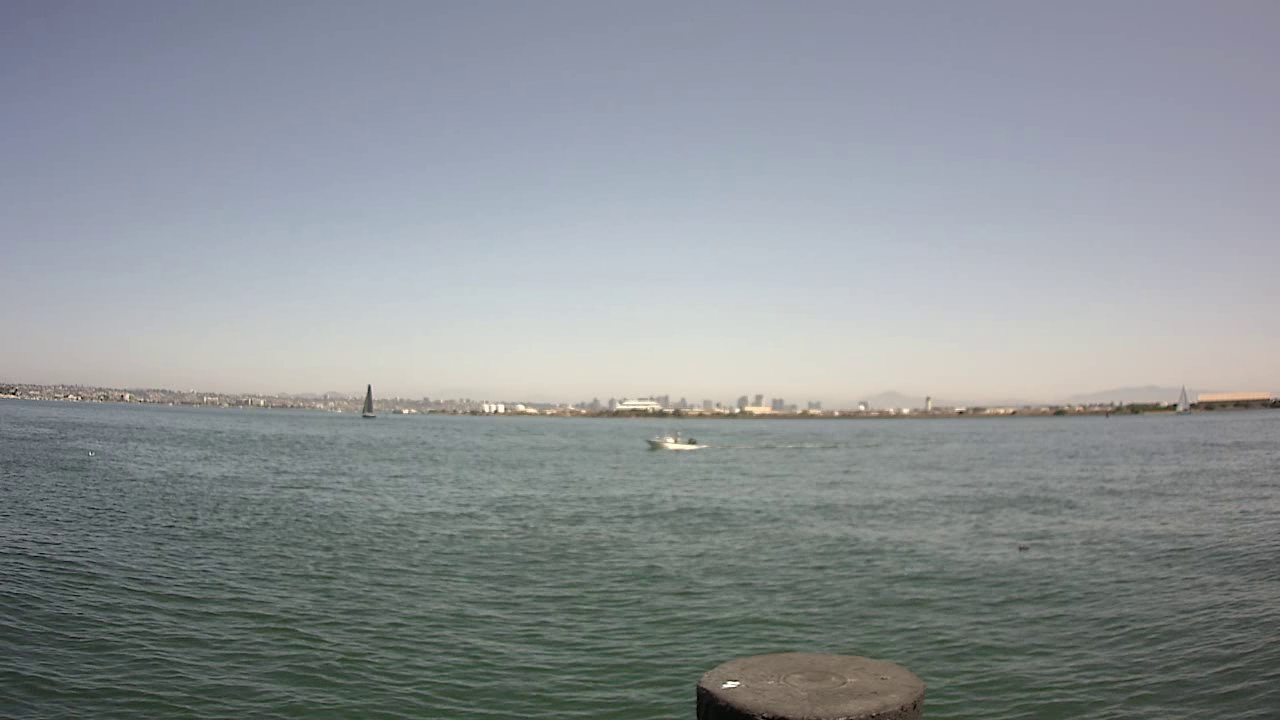target: (643, 420, 709, 458)
